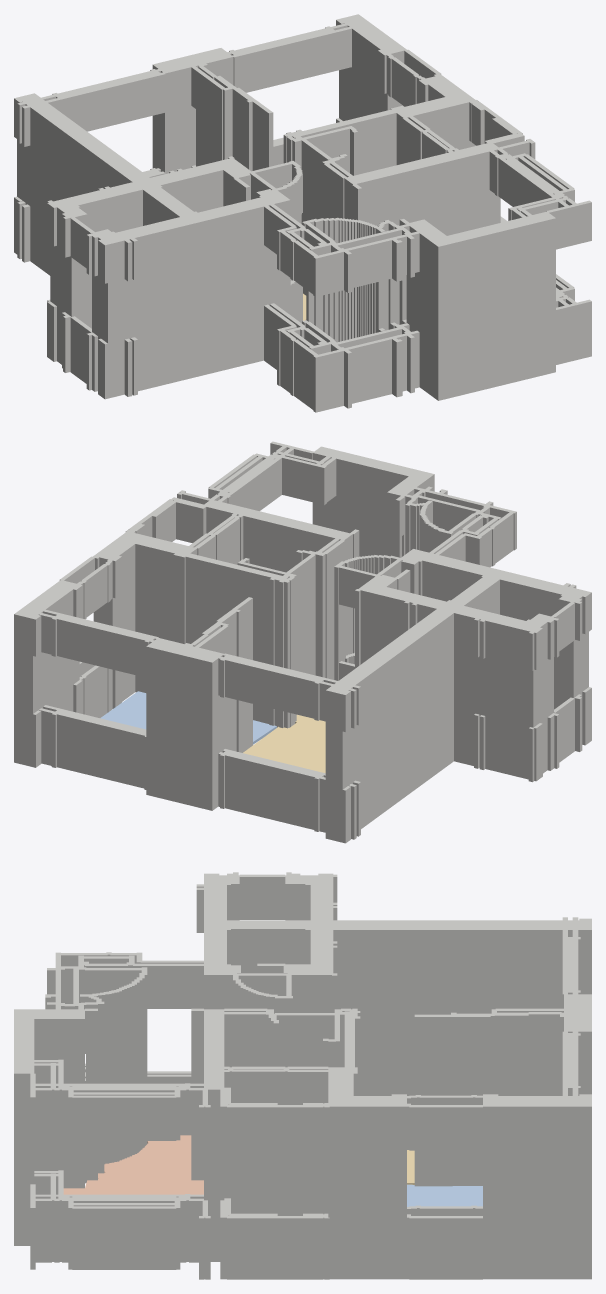
The picture shows the model from 3 angles, top to bottom: view 1: azimuth 30°, elevation 25°; view 2: azimuth 150°, elevation 25°; view 3: azimuth 270°, elevation 25°; orthographic projection. The views are drawn at different scales.
Parts seen in each view (by area): view 1: walls; view 2: walls, room:living:0, room:bedroom:1; view 3: walls, room:kitchen:6, room:bedroom:1.
Boxes of the visible parts, <box> form: walls: <box>14,14,591,412</box>; walls: <box>14,441,591,843</box>; room:living:0: <box>243,714,325,773</box>; room:bedroom:1: <box>100,691,276,744</box>; walls: <box>14,872,591,1279</box>; room:kitchen:6: <box>63,1135,203,1194</box>; room:bedroom:1: <box>407,1184,482,1206</box>.
Bounding box in the file's own units: 8.2 × 2.8 × 8.51.
